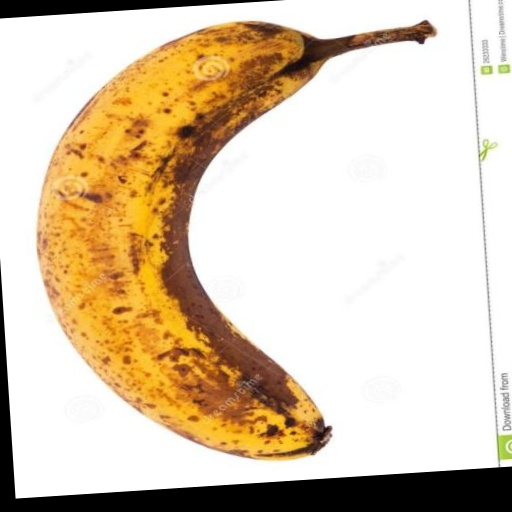fruit: (38, 21, 435, 459)
